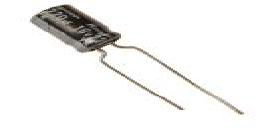Electrolytic Capacitor: (30, 1, 251, 119)
